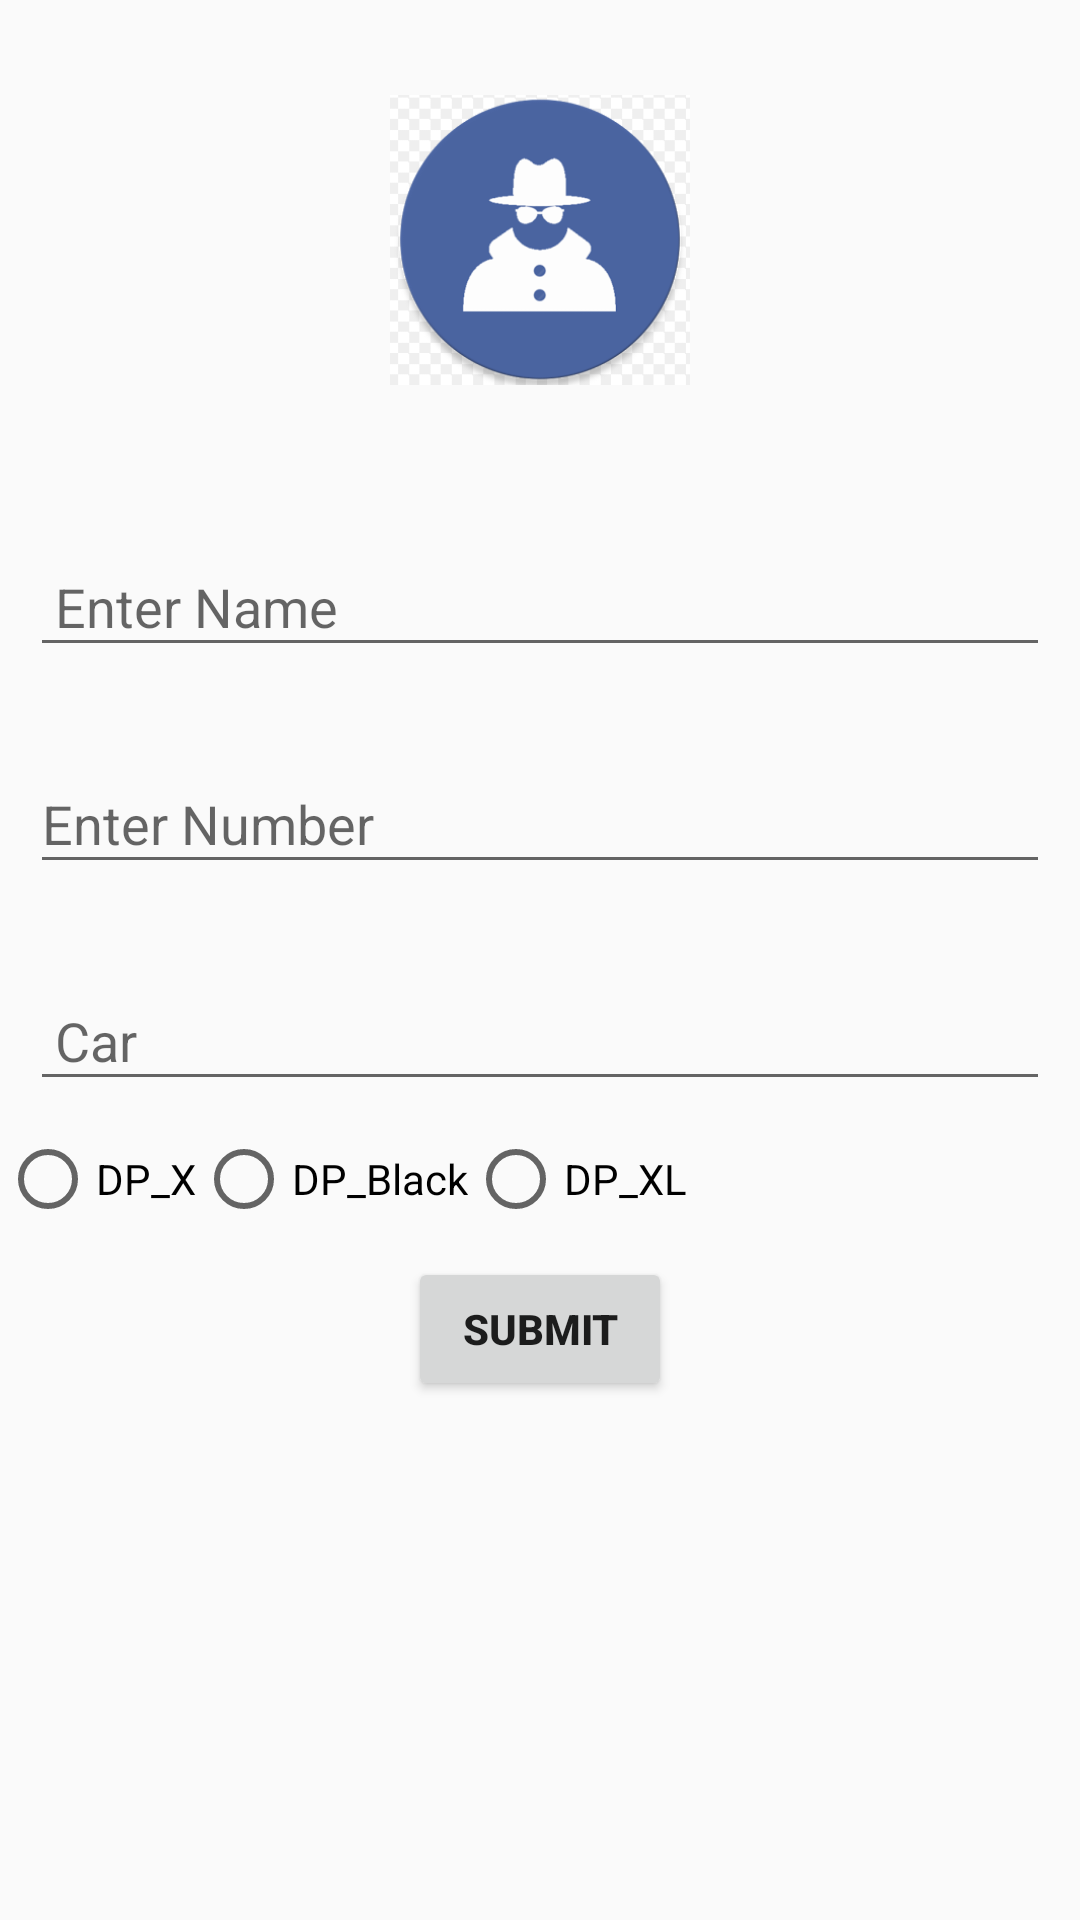

Where icons sit on this 1080x1920 app screen, as [left=x1, top=y1, right=x2, bottom=y2]:
prof: [left=399, top=99, right=682, bottom=385]
